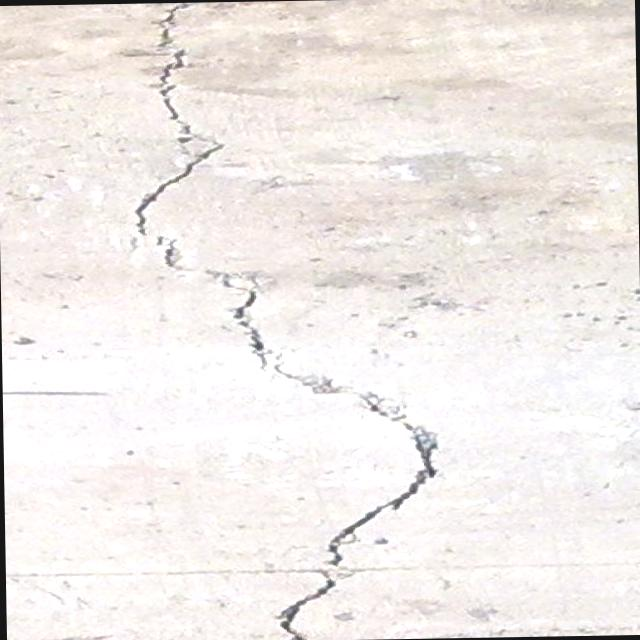crack: (203, 262, 443, 640), (123, 2, 226, 276)
